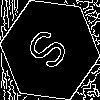S: (25, 25, 77, 80)
